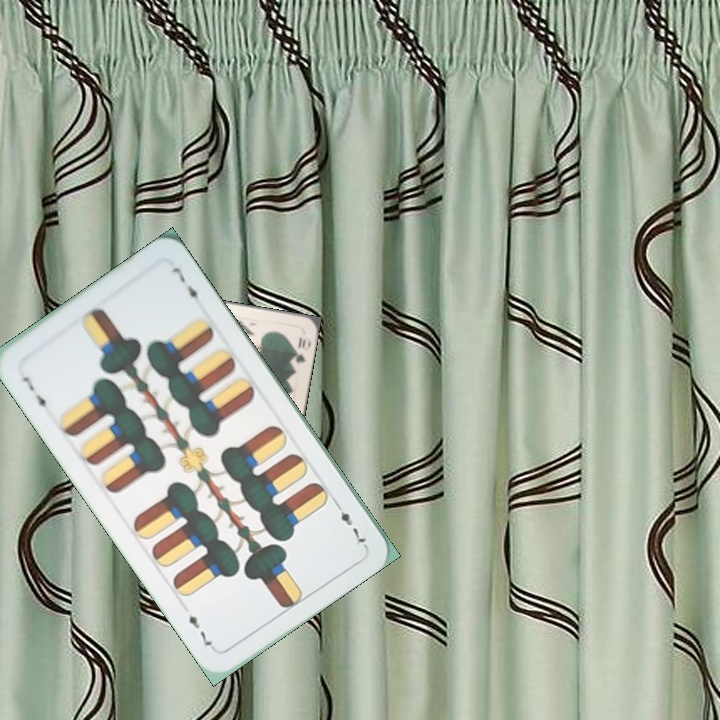E7: (330, 497, 369, 549), (18, 372, 51, 416)
